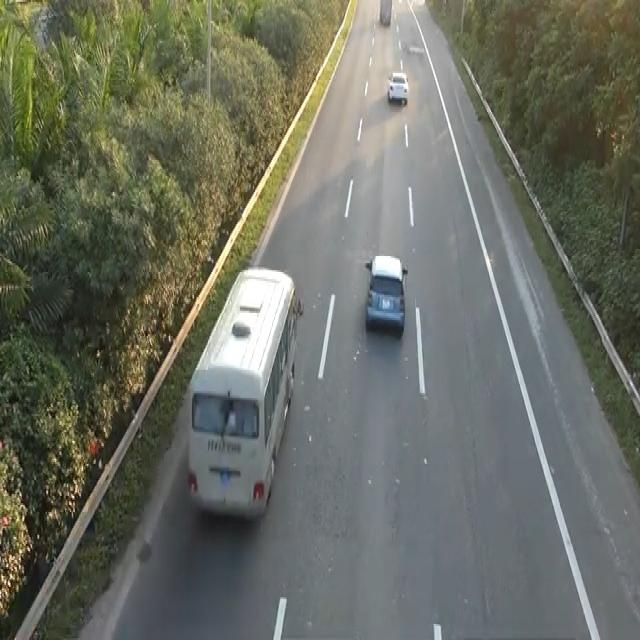bus: (363, 250, 409, 338)
jeep: (185, 261, 301, 521)
